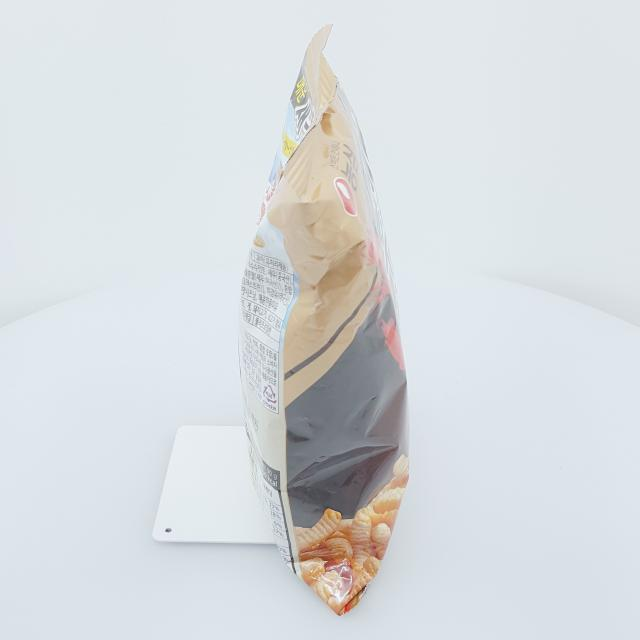-90G: (238, 24, 411, 617)
